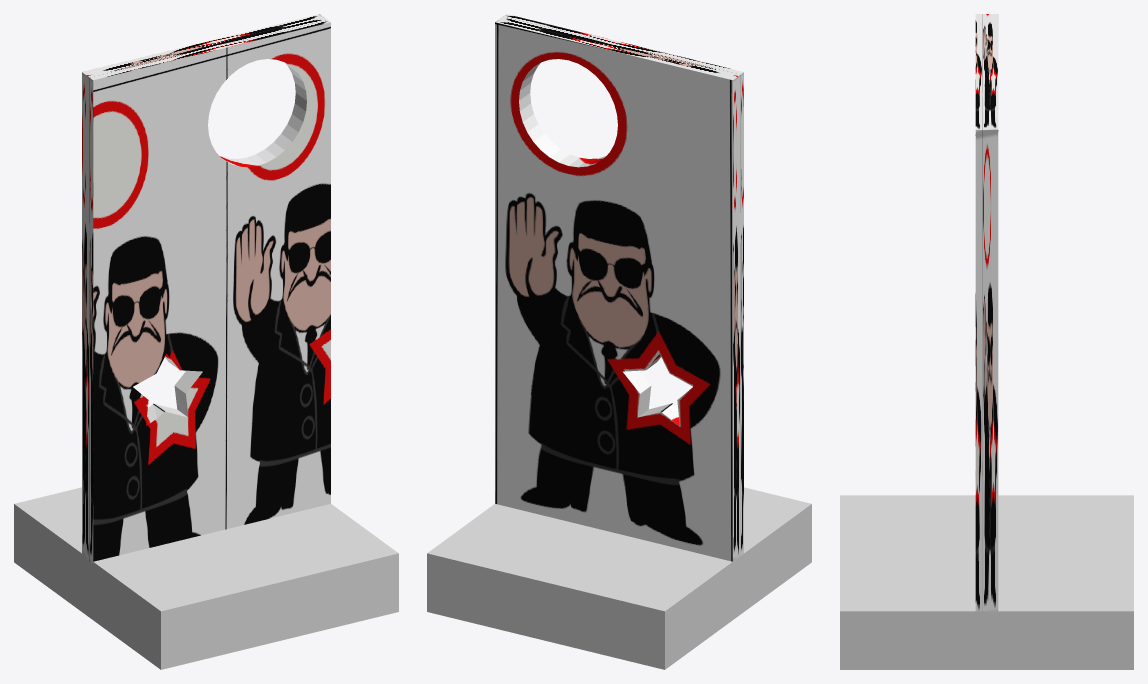
Rendered from gman.dae.
3 renders of one model, left to right at view 1: azimuth 30°, elevation 25°; view 2: azimuth 150°, elevation 25°; view 3: azimuth 270°, elevation 25°, orthographic.
Visible parts, largest first — view 1: Cube.001, Cube; view 2: Cube.001, Cube; view 3: Cube, Cube.001.
Part boxes in pixels (x1,y1,x2,y2): Cube.001: (82, 14, 330, 563); Cube: (14, 487, 398, 669); Cube.001: (495, 14, 743, 561); Cube: (427, 487, 811, 669); Cube: (840, 495, 1133, 669); Cube.001: (975, 14, 998, 611).
Bounding box in the file's own units: 2 × 2.14 × 4.34.
1 material, 1 textured.
